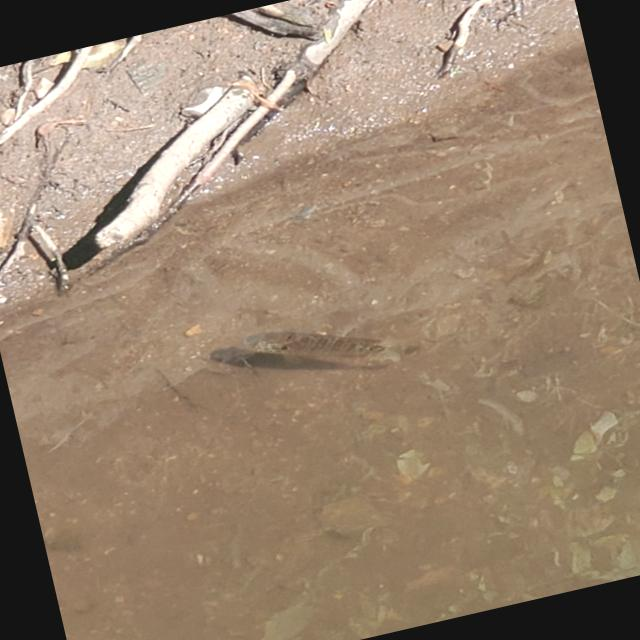Gunes Levregi: (202, 294, 420, 407)
